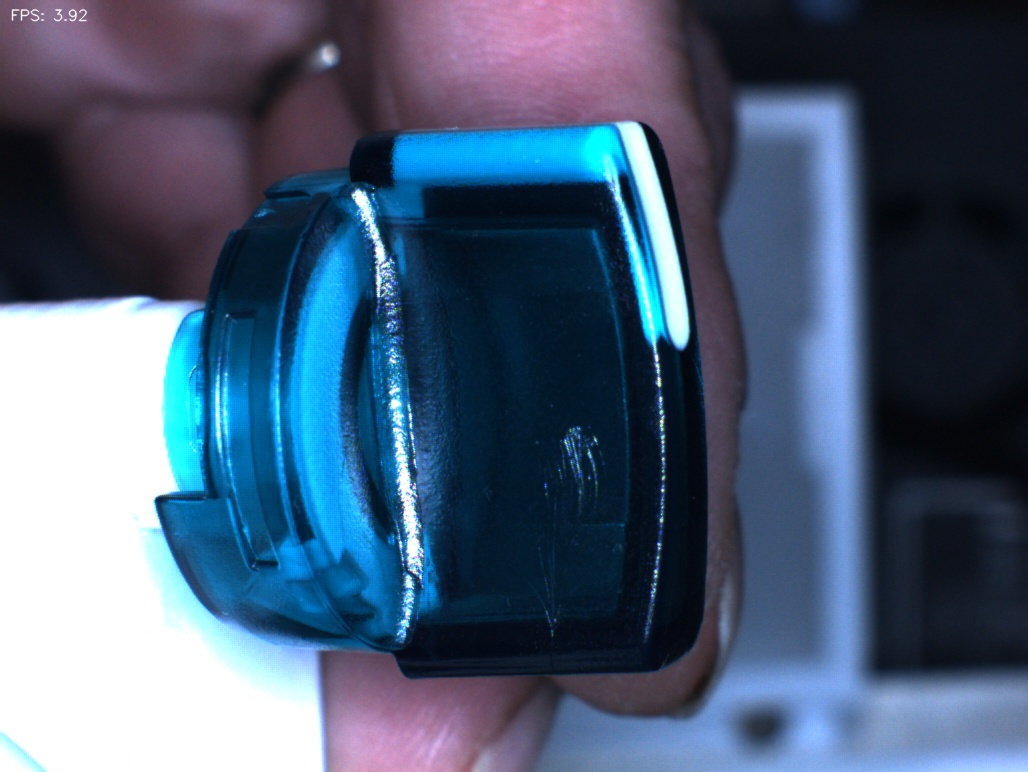Givrage: (516, 415, 617, 654)
